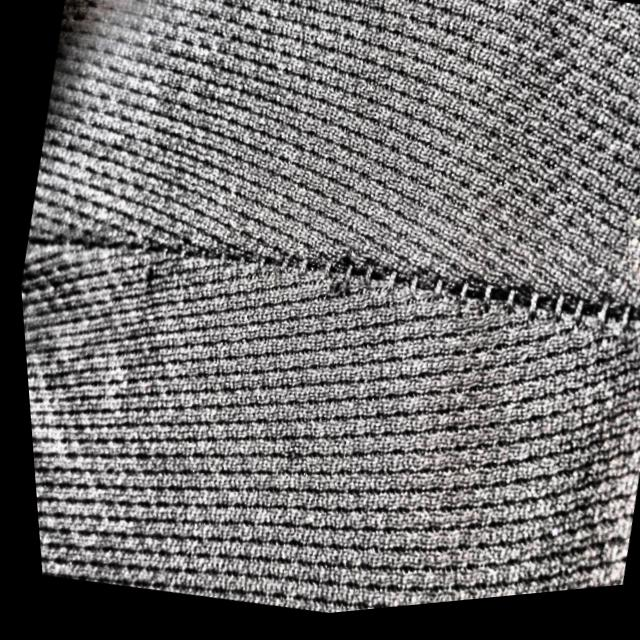Stitch: (314, 197, 640, 405)
